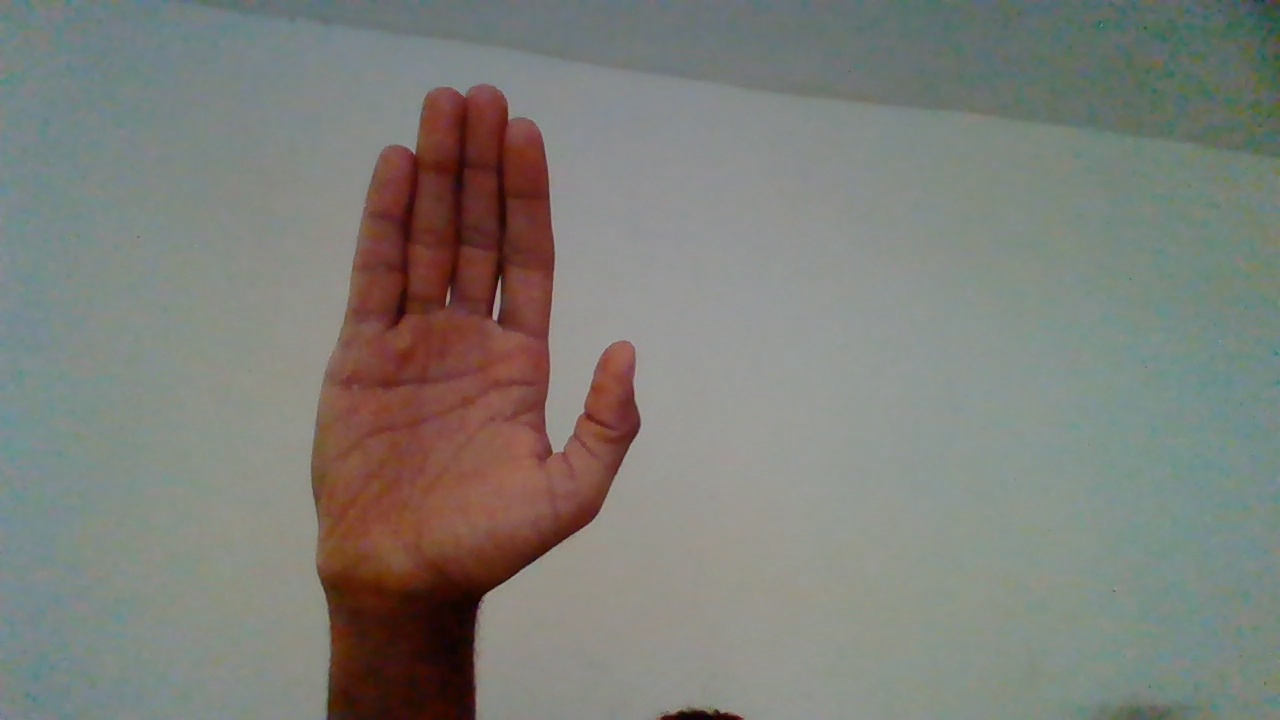ha: (311, 94, 647, 698)
